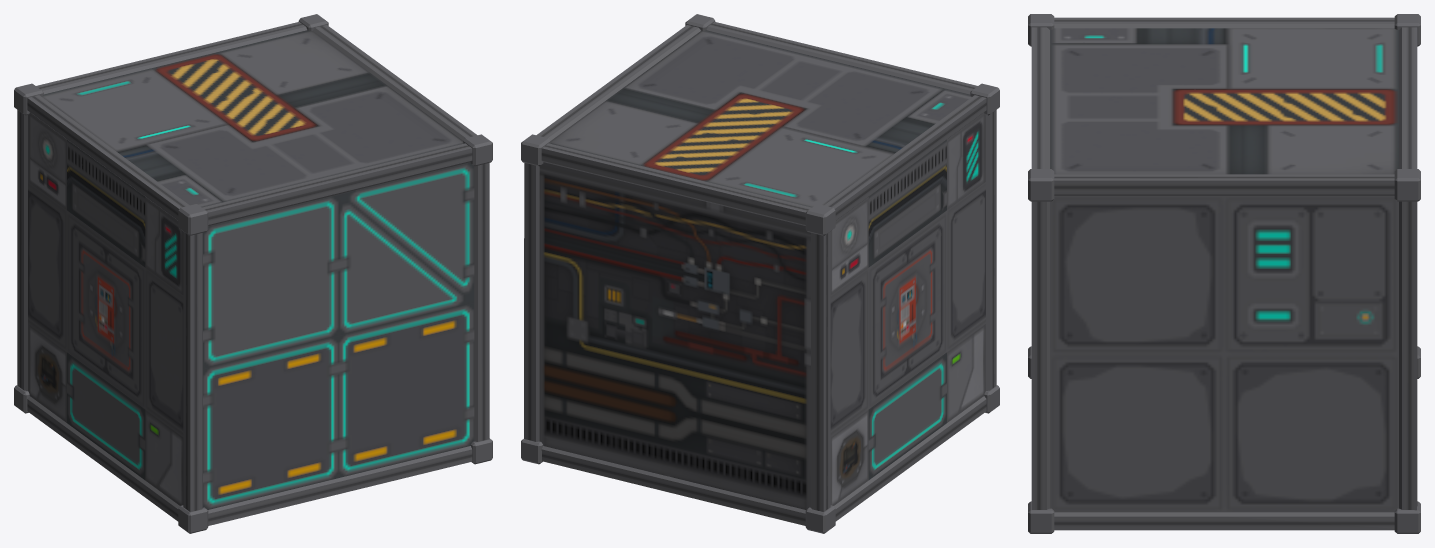
Rendered from SM_Prop_Greeble_Cube_02.fbx.
The picture shows the model from 3 angles, left to right: view 1: azimuth 30°, elevation 25°; view 2: azimuth 150°, elevation 25°; view 3: azimuth 270°, elevation 25°; orthographic projection. The views are drawn at different scales.
Parts seen in each view (by area): view 1: SM_Prop_Greeble_Cube_02; view 2: SM_Prop_Greeble_Cube_02; view 3: SM_Prop_Greeble_Cube_02.
Part boxes in pixels (bbox=[...]): SM_Prop_Greeble_Cube_02: bbox=[14, 14, 492, 533]; SM_Prop_Greeble_Cube_02: bbox=[521, 14, 999, 533]; SM_Prop_Greeble_Cube_02: bbox=[1028, 14, 1420, 533].
Size of the model in its own units: 259 by 259 by 259.
